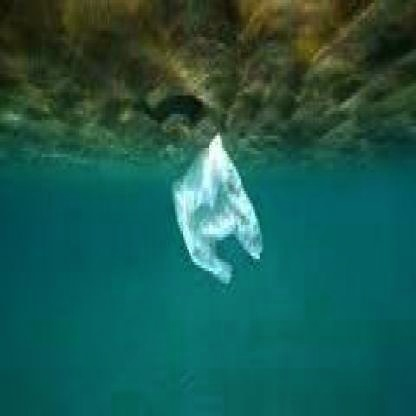pbag: (170, 130, 263, 286)
